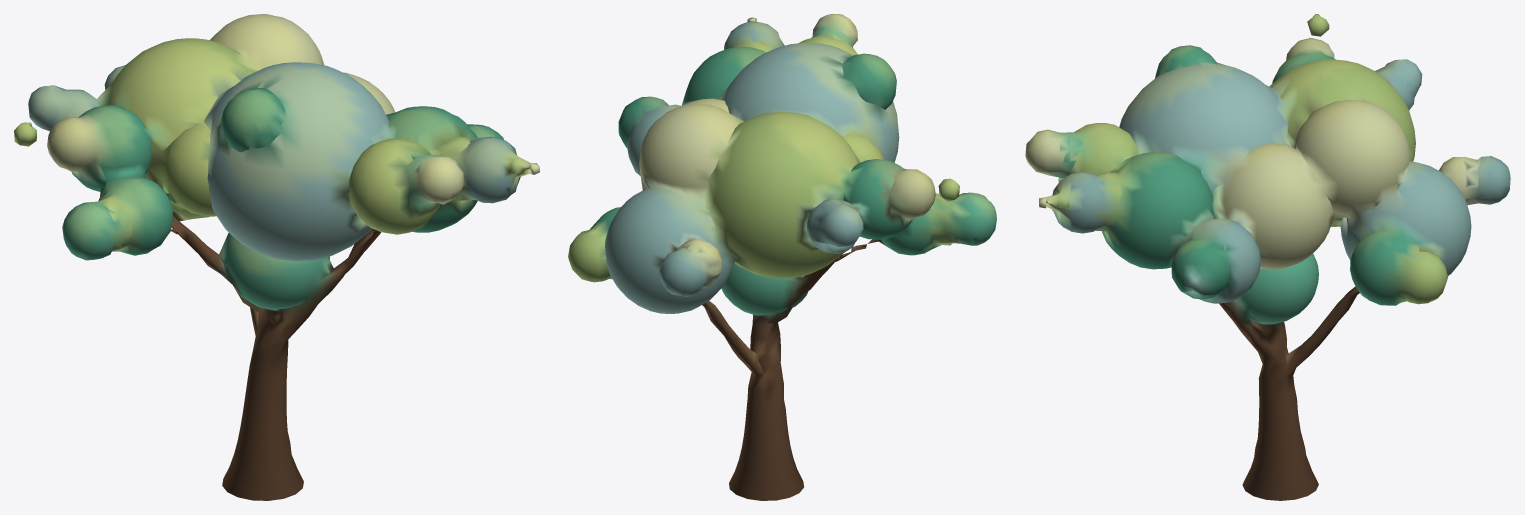
Rendered from canopy-tree-lod1.obj.
3 renders of one model, left to right at view 1: azimuth 30°, elevation 25°; view 2: azimuth 150°, elevation 25°; view 3: azimuth 270°, elevation 25°, orthographic. The views are drawn at different scales.
Parts seen in each view (by area): view 1: simplified; view 2: simplified; view 3: simplified.
Boxes of the visible parts, left/top/right/bottom form: simplified: left=14, top=14, right=539, bottom=500; simplified: left=568, top=14, right=996, bottom=500; simplified: left=1025, top=14, right=1510, bottom=500.
Size of the model in its own units: 455 by 455 by 487.
